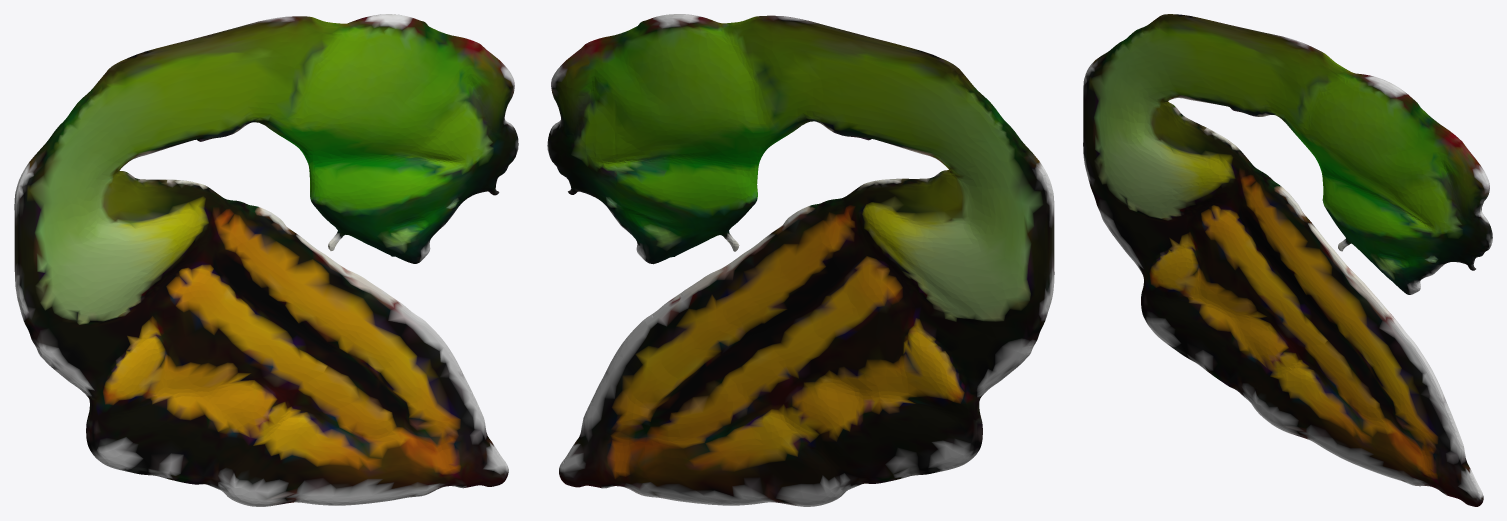
File: carrot.glb
3 renders of one model, left to right at view 1: azimuth 30°, elevation 25°; view 2: azimuth 150°, elevation 25°; view 3: azimuth 330°, elevation 25°, orthographic. The views are drawn at different scales.
Parts seen in each view (by area): view 1: geometry_0; view 2: geometry_0; view 3: geometry_0.
Part boxes in pixels (box(x1,y1,x2,y2)): geometry_0: box(14, 14, 518, 506); geometry_0: box(547, 14, 1054, 506); geometry_0: box(1083, 14, 1492, 506).
Bounding box in the file's own units: 0.6562 × 0.6488 × 0.0597.
